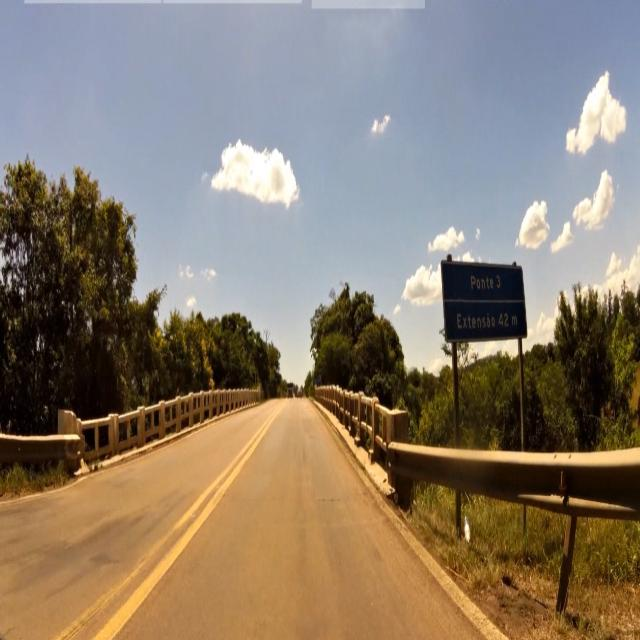LOC-6: (444, 258, 526, 341)
